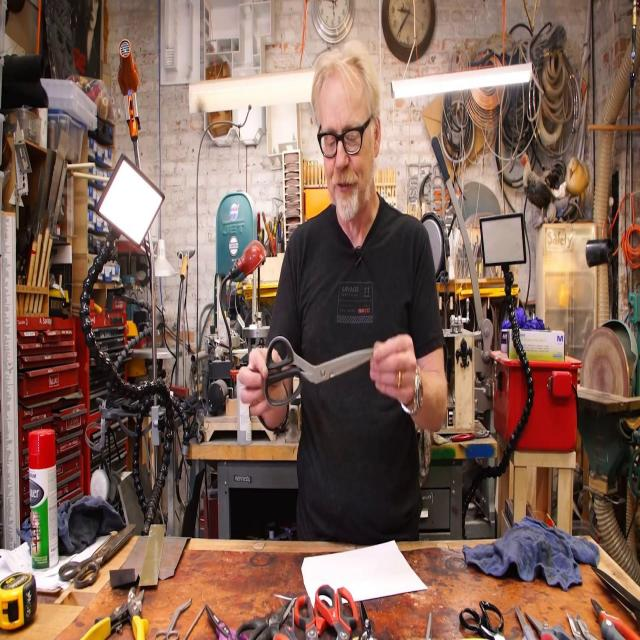scissor: (265, 337, 382, 408), (59, 524, 137, 590), (240, 594, 303, 640), (314, 585, 363, 640), (458, 601, 506, 640), (153, 597, 194, 640), (205, 604, 252, 640), (295, 595, 331, 640), (525, 609, 573, 640), (278, 606, 306, 640)
